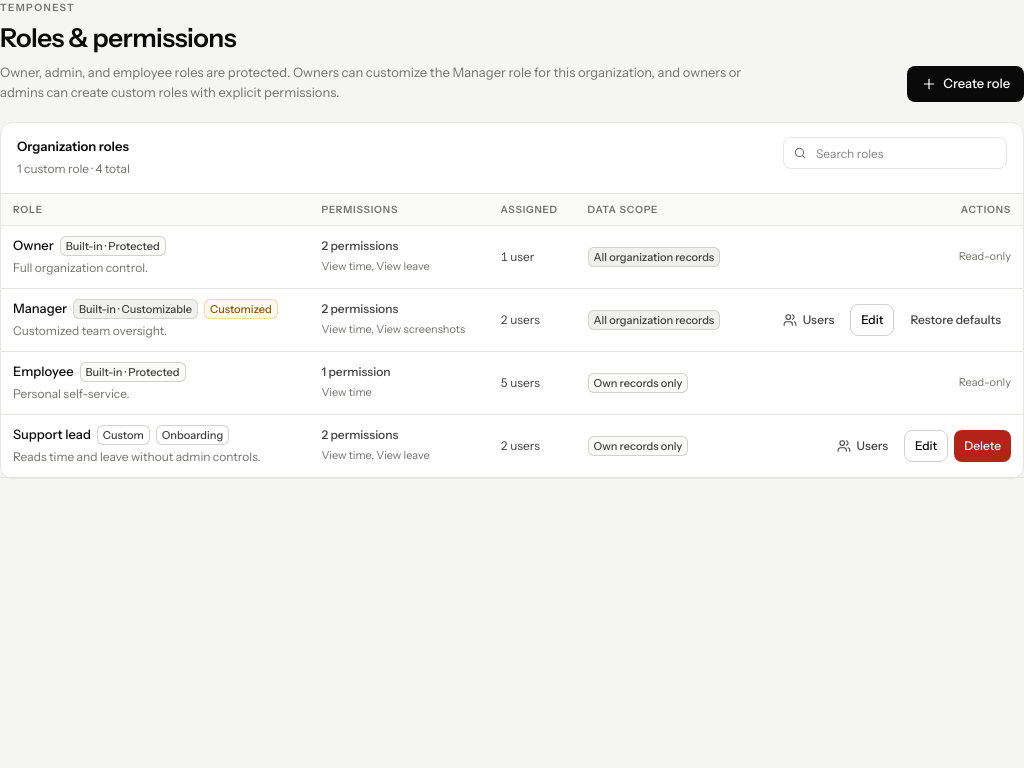
Scenario: RolesView › restores default Manager permissions for the owner
The image size is (1024, 768).
Expected: the text "Customized" is shown, [204,298,278,318]
Click the button "Restore defaults" at (956, 320), box [900,304,1011,336]
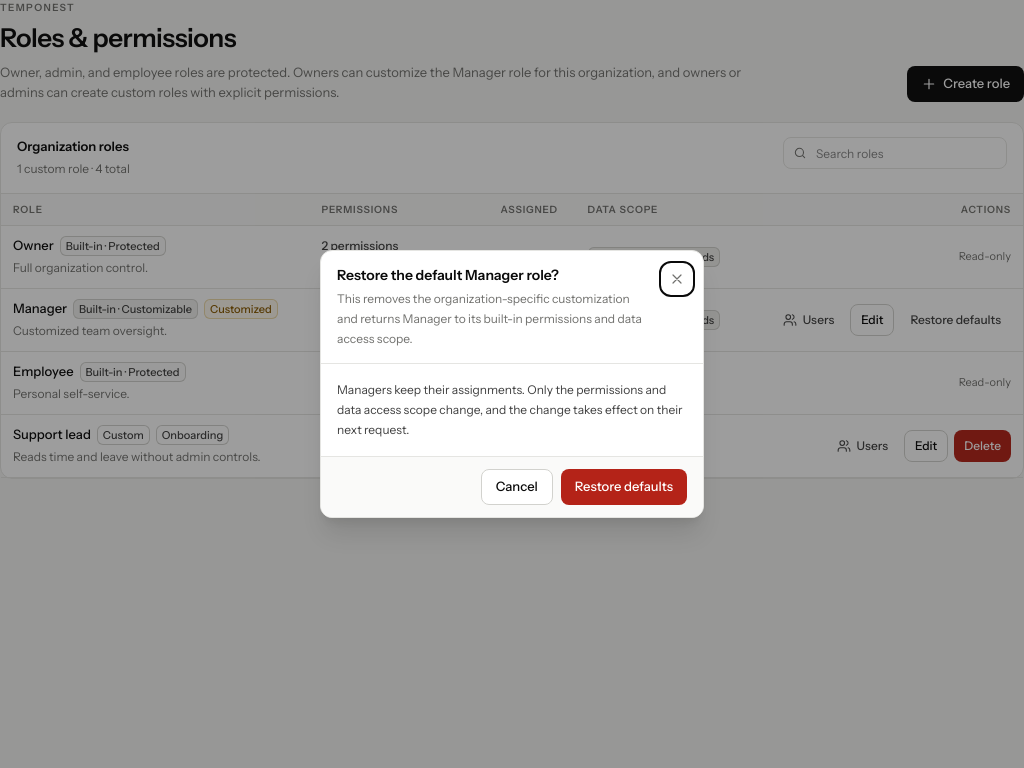
Now the heading "Restore the default Manager role?" is shown, box [337,266,559,284]
Click the button "Restore defaults" at (624, 487), box [561,469,687,505]
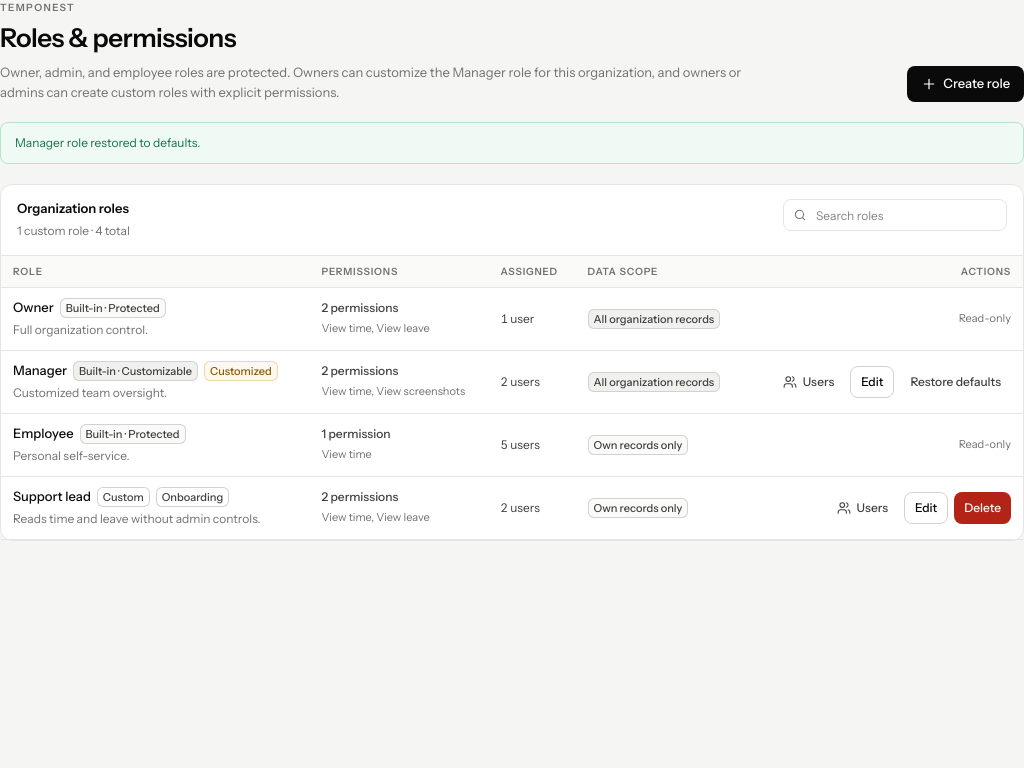
Now the text "Manager role restored to defaults." is shown, box [15,135,200,150]
